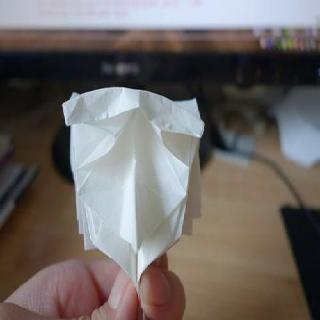8/可回收垃圾/纸: (60, 85, 205, 294)
